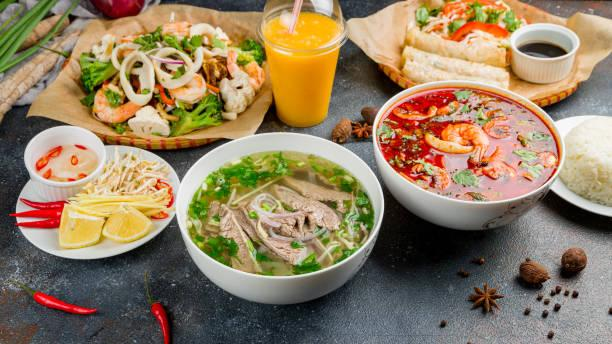Braised Crucian Carp: (177, 131, 380, 303), (64, 4, 275, 148), (372, 79, 560, 230), (378, 0, 577, 107), (17, 147, 179, 260)
